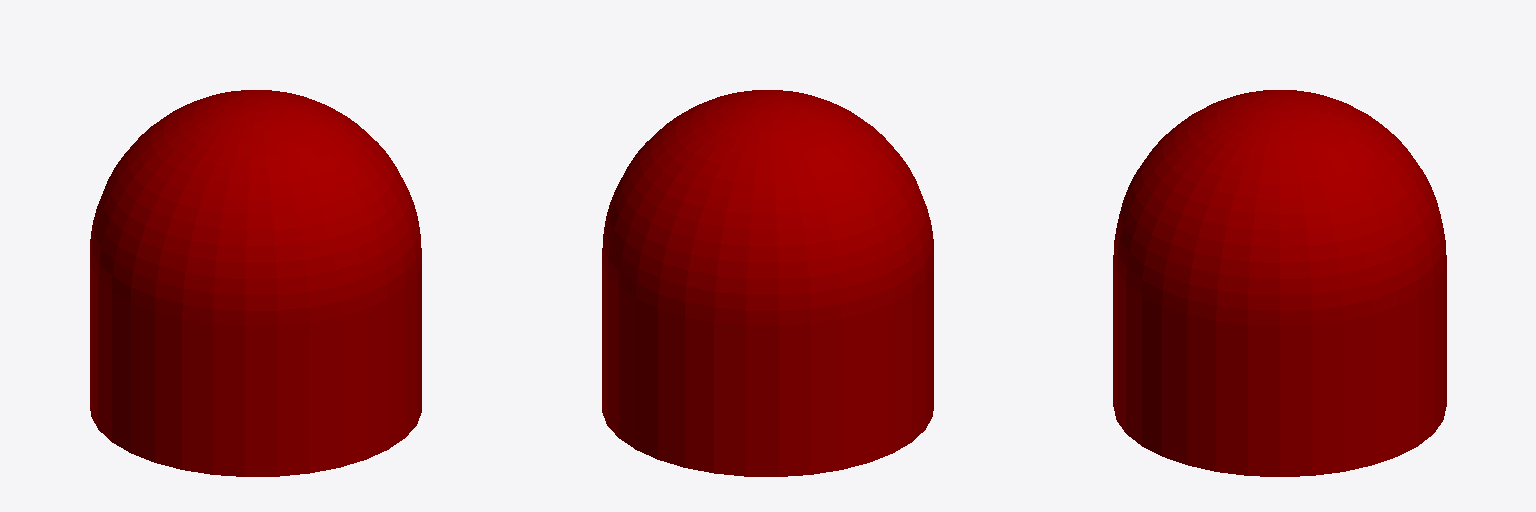
The model's file is puck.obj.
3 views of the same model, side by side, from view 1: azimuth 30°, elevation 25°; view 2: azimuth 150°, elevation 25°; view 3: azimuth 270°, elevation 25° (orthographic).
Visible parts, largest first — view 1: Sphere_Sphere_Material; view 2: Sphere_Sphere_Material; view 3: Sphere_Sphere_Material.
Boxes of the visible parts, <box> form: Sphere_Sphere_Material: <box>90,90,421,476</box>; Sphere_Sphere_Material: <box>602,90,933,476</box>; Sphere_Sphere_Material: <box>1113,90,1446,476</box>.
Size of the model in its own units: 2 by 2 by 2.